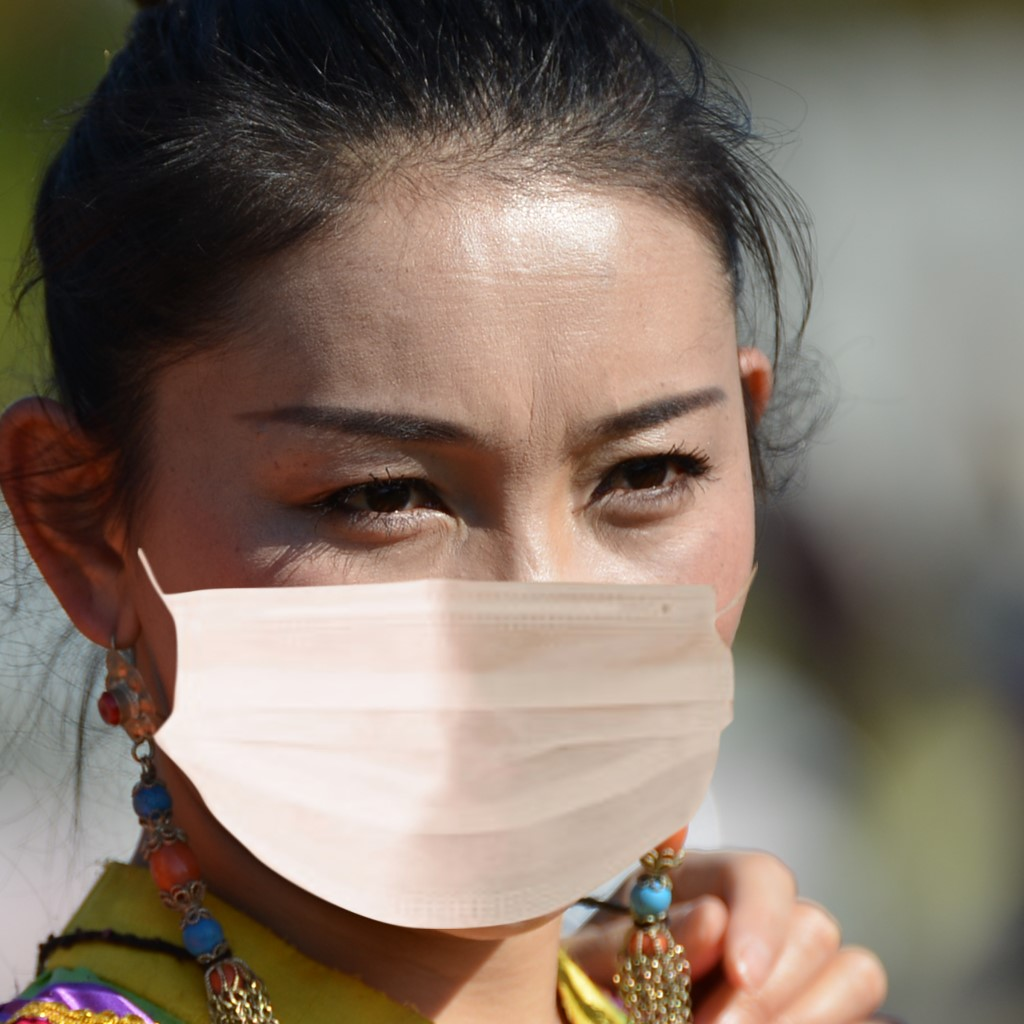con_mascara: (102, 52, 751, 941)
